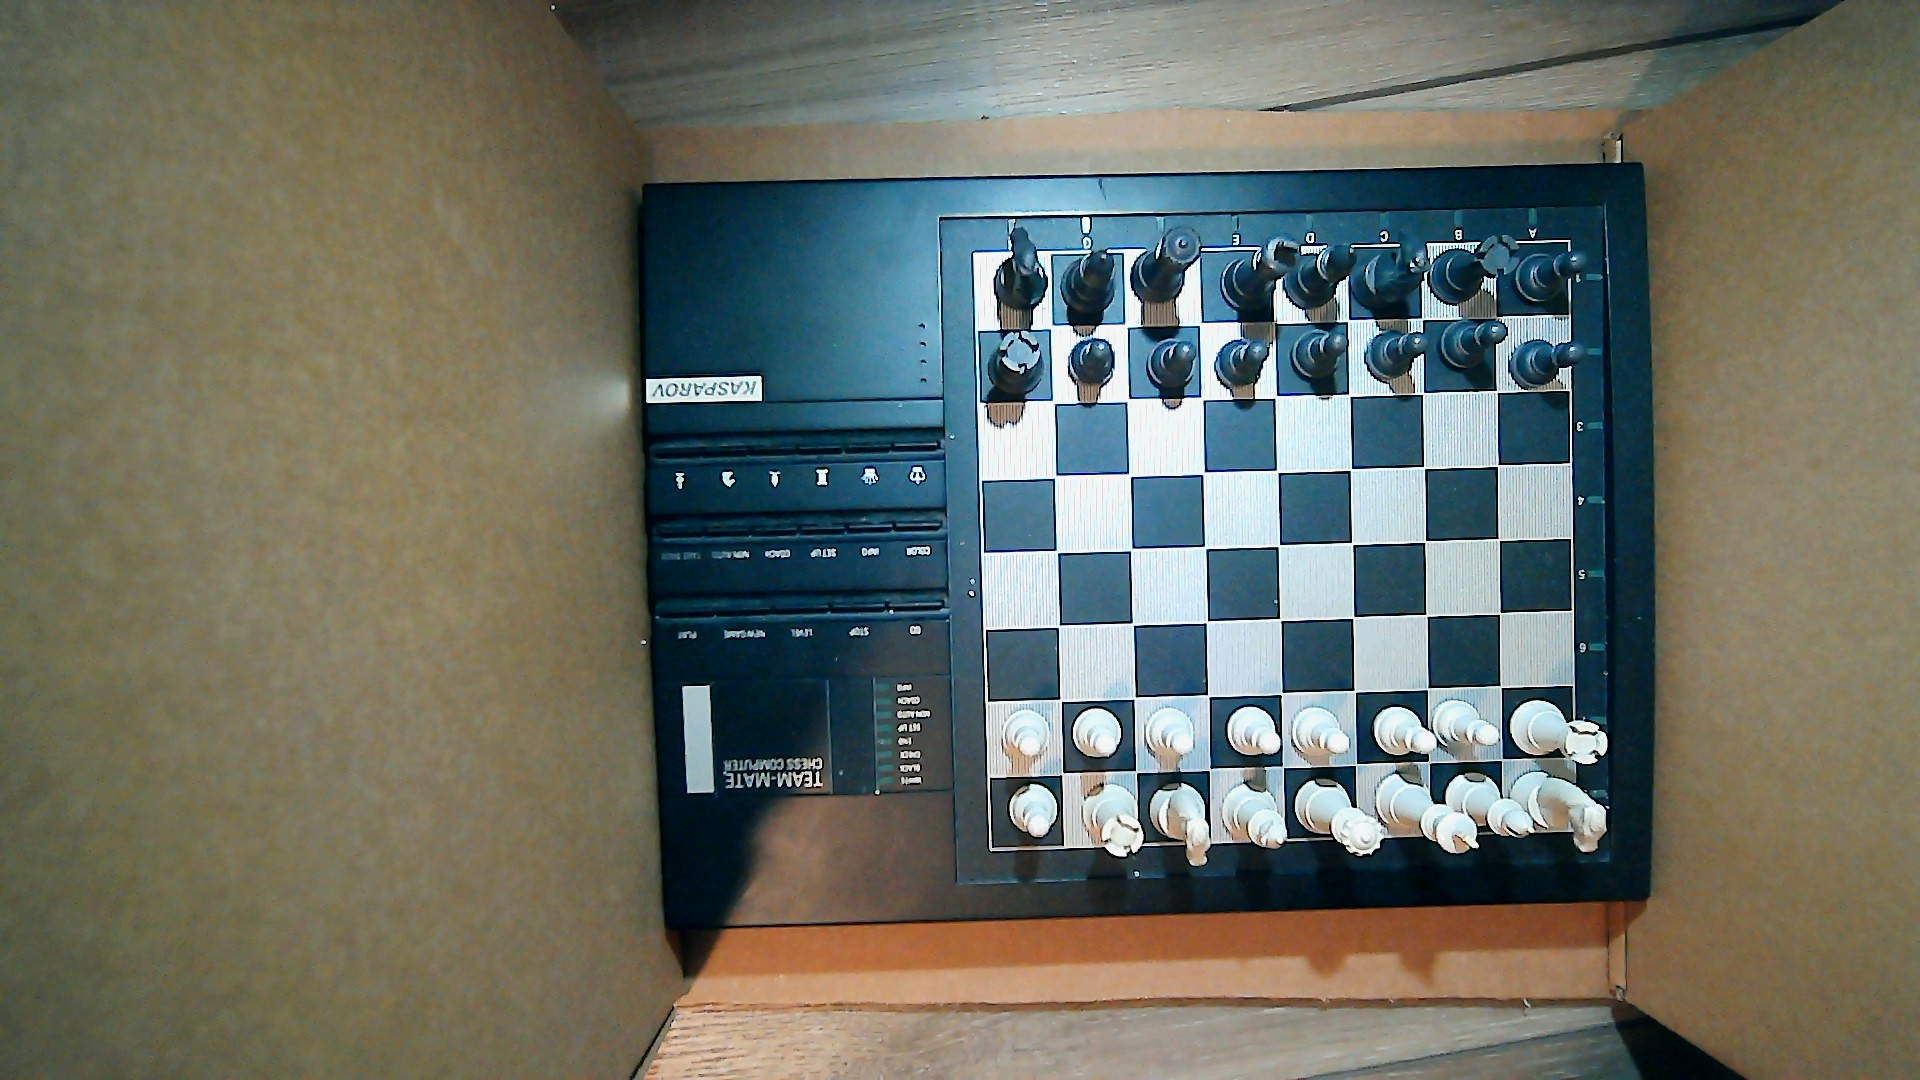bbishop: (1280, 240, 1360, 305), (1058, 249, 1118, 314)
bking: (1218, 233, 1305, 306)
bknight: (1350, 223, 1431, 309), (993, 225, 1051, 314)
bpawn: (1515, 247, 1592, 305), (1509, 336, 1586, 388), (1364, 327, 1429, 386), (1437, 316, 1509, 371), (1291, 328, 1352, 378), (1215, 336, 1273, 386), (1146, 338, 1200, 388), (1068, 338, 1117, 386)
bqueen: (1129, 223, 1213, 305)
brook: (1429, 229, 1522, 305), (986, 330, 1050, 393)
wbishop: (1445, 767, 1536, 839), (1218, 782, 1288, 851)
wking: (1374, 770, 1480, 857)
wknight: (1509, 771, 1607, 853), (1150, 781, 1215, 866)
wpawn: (1510, 696, 1607, 765), (1371, 704, 1441, 758), (1432, 698, 1501, 749), (1291, 704, 1353, 761), (1000, 705, 1055, 764), (1226, 702, 1282, 758), (1006, 782, 1060, 837), (1145, 708, 1200, 760), (1073, 705, 1124, 760)
wqueen: (1294, 778, 1382, 857)
wrook: (1077, 781, 1145, 858)
